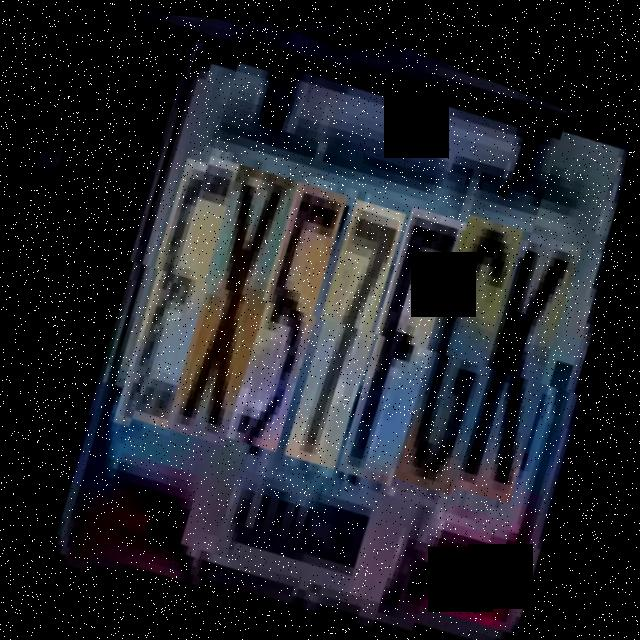5: (218, 172, 354, 462)
7: (276, 189, 412, 479)
E: (108, 139, 250, 439)
F: (330, 197, 472, 496)
G: (386, 203, 529, 505)
K: (439, 227, 584, 522)
X: (157, 153, 305, 456)
